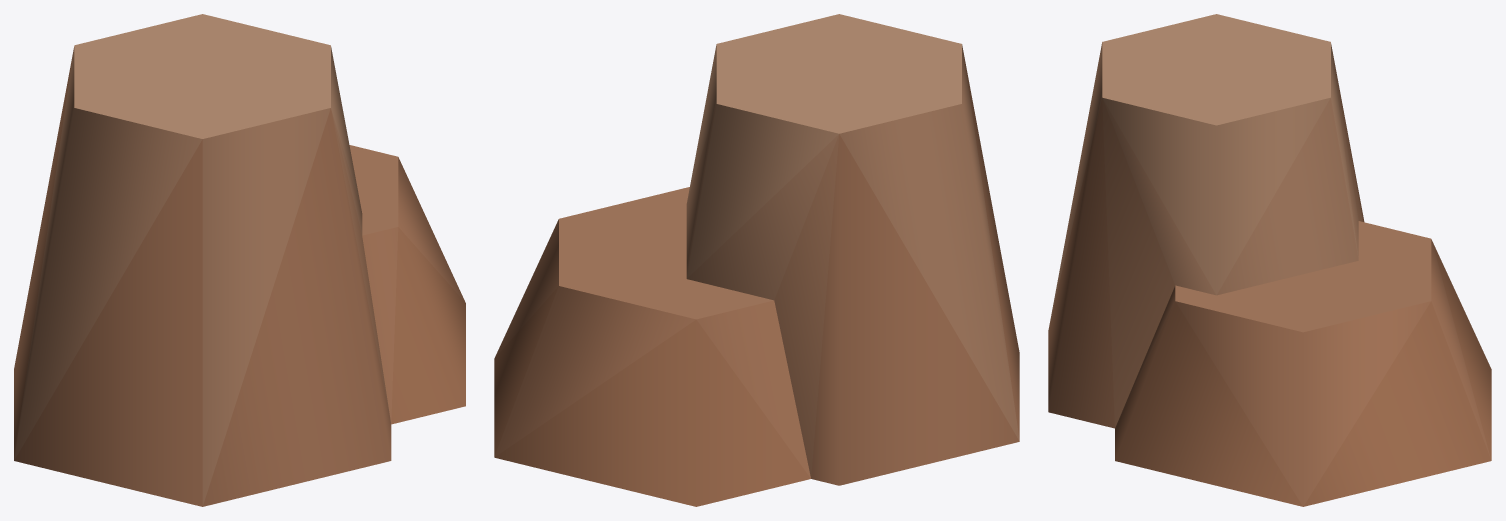
The model's file is survival_resource_stone.glb.
3 views of the same model, side by side, from view 1: azimuth 30°, elevation 25°; view 2: azimuth 150°, elevation 25°; view 3: azimuth 270°, elevation 25° (orthographic). The views are drawn at different scales.
Parts seen in each view (by area): view 1: survival_resource_stone; view 2: survival_resource_stone; view 3: survival_resource_stone.
Boxes of the visible parts, x1,y1,x2,y2 form: survival_resource_stone: [14, 14, 465, 506]; survival_resource_stone: [494, 14, 1019, 506]; survival_resource_stone: [1048, 14, 1491, 506].
Bounding box in the file's own units: 0.1653 × 0.1068 × 0.1422.
